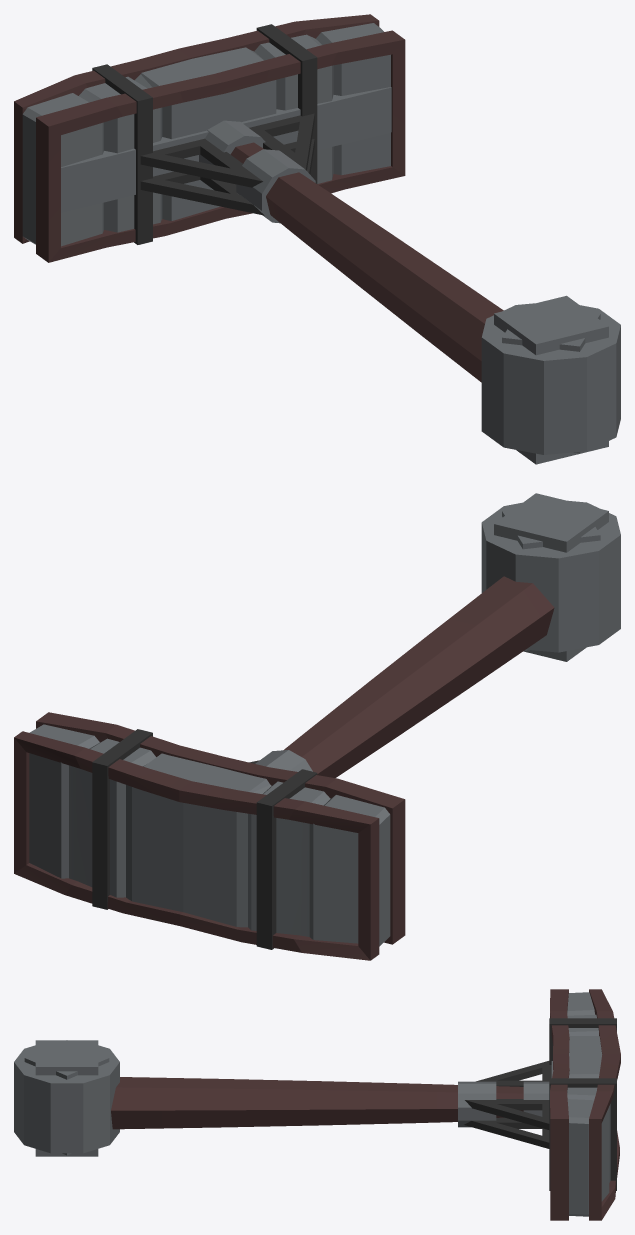
Rendered from DarkWoodMechPendulum1.fbx.
The picture shows the model from 3 angles, top to bottom: view 1: azimuth 30°, elevation 25°; view 2: azimuth 150°, elevation 25°; view 3: azimuth 270°, elevation 25°; orthographic projection. The views are drawn at different scales.
Parts seen in each view (by area): view 1: PendulumHead, Shaft; view 2: PendulumHead, Shaft; view 3: Shaft, PendulumHead.
Part boxes in pixels (<box>): PendulumHead: <box>14,14,405,262</box>; Shaft: <box>230,142,620,464</box>; PendulumHead: <box>14,712,405,960</box>; Shaft: <box>283,493,620,777</box>; Shaft: <box>14,1040,523,1156</box>; PendulumHead: <box>458,989,620,1220</box>.
Size of the model in its own units: 1015 by 391 by 2007.
